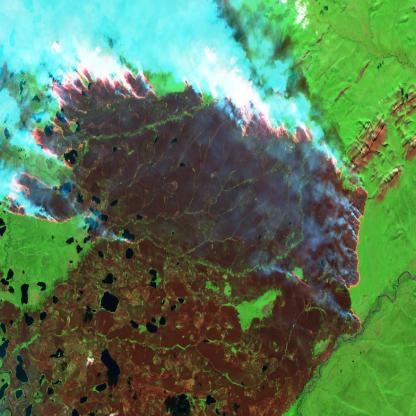fire: (0, 34, 416, 343)
